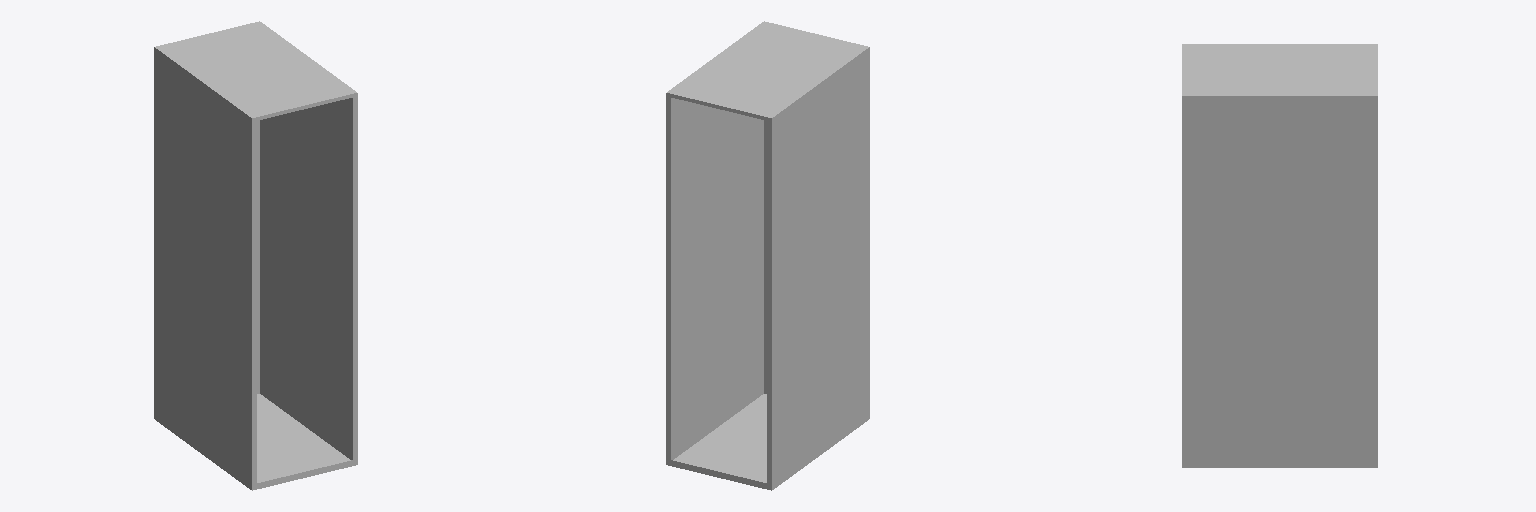
File: jigui1.obj
3 views of the same model, side by side, from view 1: azimuth 30°, elevation 25°; view 2: azimuth 150°, elevation 25°; view 3: azimuth 270°, elevation 25° (orthographic).
Visible parts, largest first — view 1: default; view 2: default; view 3: default.
Boxes of the visible parts, x1,y1,x2,y2 form: default: [154, 21, 357, 490]; default: [666, 21, 869, 490]; default: [1182, 44, 1377, 467].
Size of the model in its own units: 60 by 202 by 96.